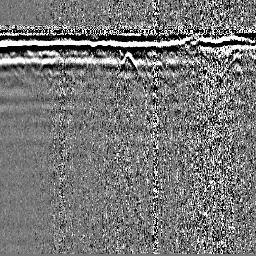cavity: (117, 49, 139, 74)
